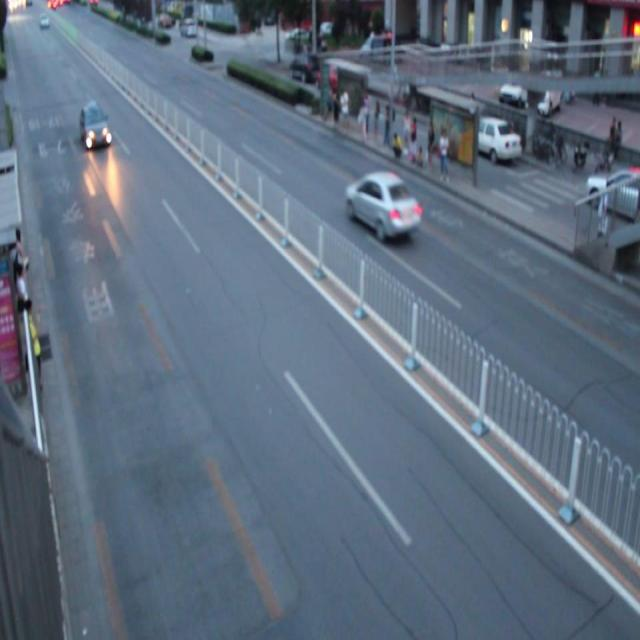car: (344, 169, 419, 242), (79, 100, 110, 150)
